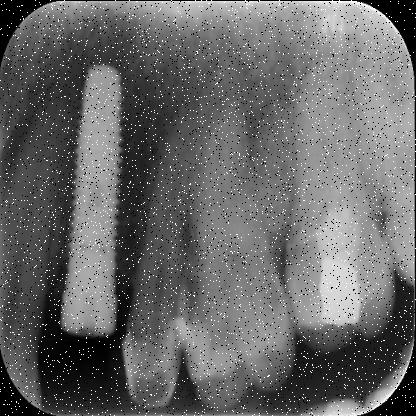Bego: (47, 54, 154, 338)
